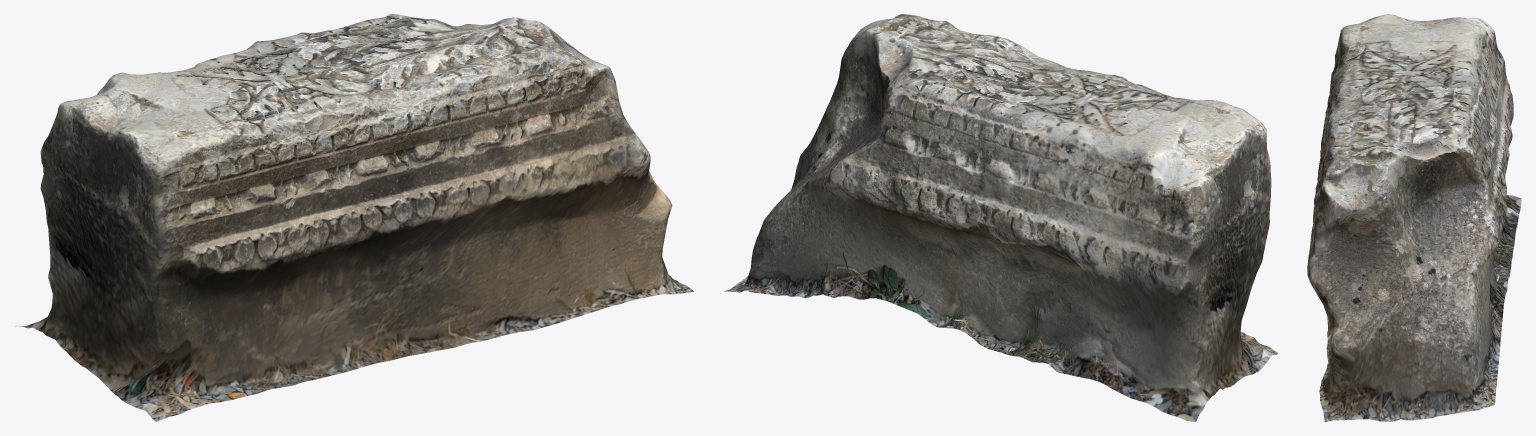
The model's file is carved_architectural_block_with_laurel_motifs_...glb.
3 views of the same model, side by side, from view 1: azimuth 30°, elevation 25°; view 2: azimuth 150°, elevation 25°; view 3: azimuth 270°, elevation 25° (orthographic). The views are drawn at different scales.
Visible parts, largest first — view 1: Object_2; view 2: Object_2; view 3: Object_2.
Part boxes in pixels (x1,y1,x2,y2): Object_2: (15,14,693,421); Object_2: (724,14,1278,421); Object_2: (1307,14,1521,421).
Size of the model in its own units: 1.14 by 0.5502 by 0.481.
Materials: 1 (1 with a texture image).
